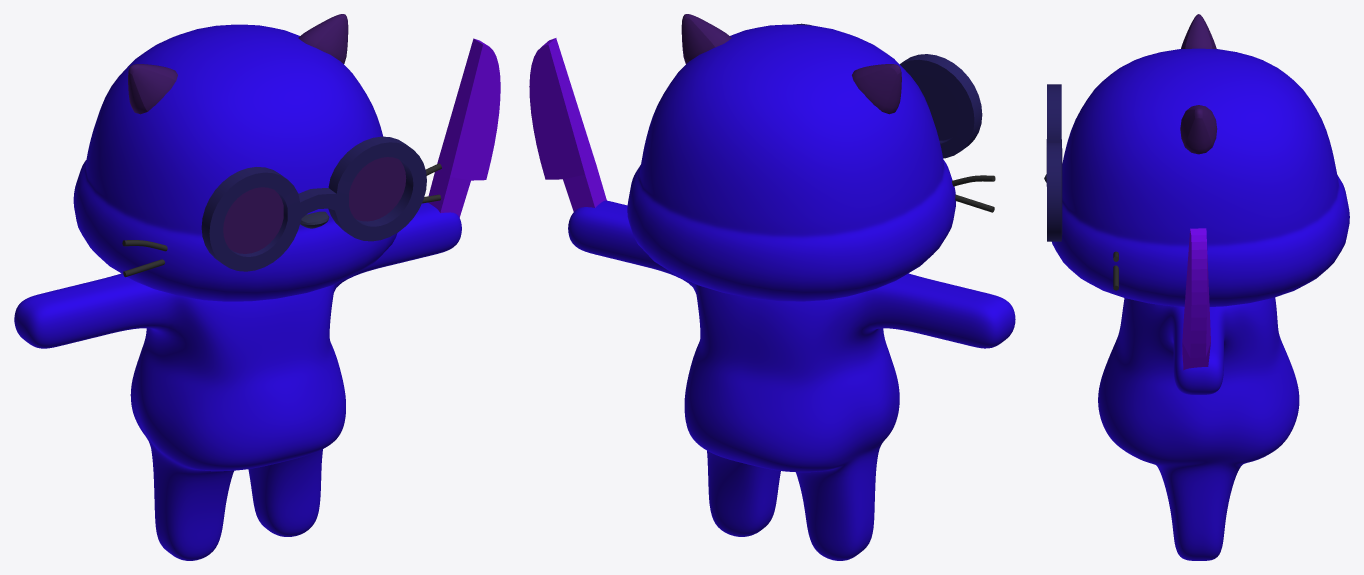
File: gatito-animado.glb
The picture shows the model from 3 angles, left to right: view 1: azimuth 30°, elevation 25°; view 2: azimuth 150°, elevation 25°; view 3: azimuth 270°, elevation 25°; orthographic projection. The views are drawn at different scales.
Parts seen in each view (by area): view 1: body, lentes, cchillo, orejas; view 2: body, cchillo, lentes, orejas; view 3: body, cchillo, lentes, orejas.
Boxes of the visible parts, x1,y1,x2,y2 form: body: [14, 24, 461, 560]; lentes: [201, 136, 426, 271]; cchillo: [428, 38, 500, 217]; orejas: [128, 14, 348, 114]; body: [568, 24, 1015, 560]; cchillo: [529, 38, 606, 211]; lentes: [793, 23, 982, 158]; orejas: [681, 14, 901, 114]; body: [1052, 48, 1349, 560]; cchillo: [1182, 228, 1210, 370]; lentes: [1046, 84, 1062, 241]; orejas: [1180, 14, 1217, 154].
Bounding box in the file's own units: 5.39 × 5.46 × 3.2.
